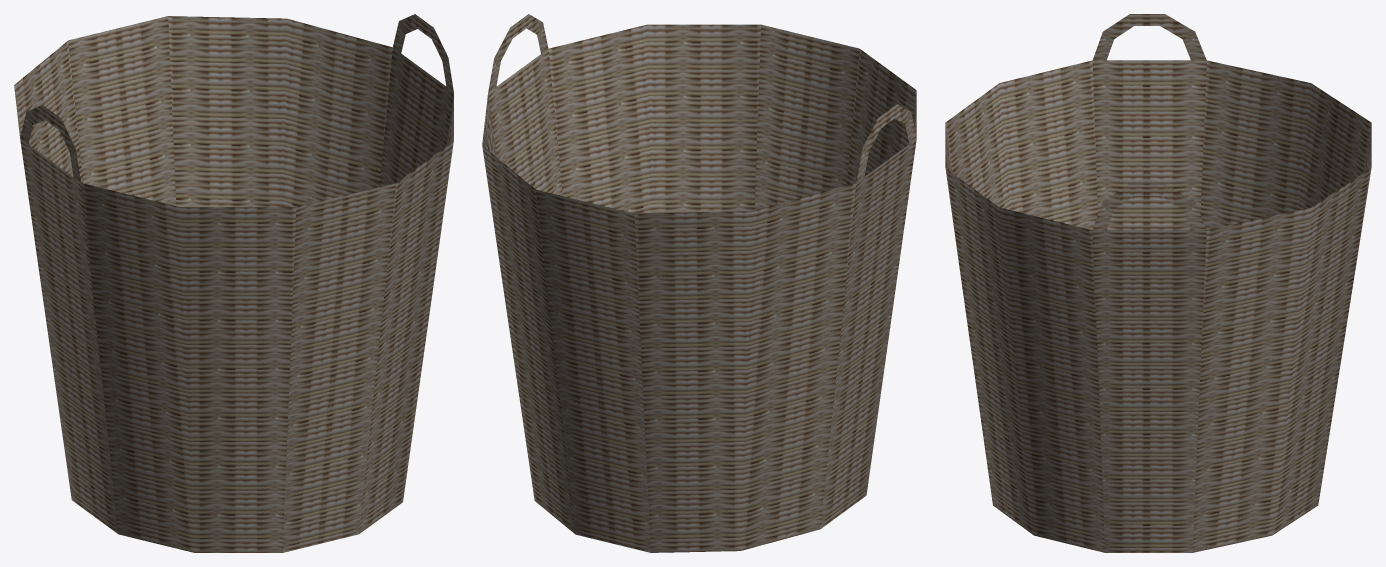
3 renders of one model, left to right at view 1: azimuth 30°, elevation 25°; view 2: azimuth 150°, elevation 25°; view 3: azimuth 270°, elevation 25°, orthographic. The views are drawn at different scales.
Visible parts, largest first — view 1: mesh1_mesh1-geometry, mesh1_mesh1-geometry_1, mesh2_mesh2-geometry_1, mesh2_mesh2-geometry; view 2: mesh2_mesh2-geometry, mesh2_mesh2-geometry_1, mesh1_mesh1-geometry_1, mesh1_mesh1-geometry; view 3: mesh1_mesh1-geometry_1, mesh2_mesh2-geometry_1, mesh2_mesh2-geometry, mesh1_mesh1-geometry.
Part boxes in pixels (x1,y1,x2,y2): mesh1_mesh1-geometry: (52,112,346,552); mesh1_mesh1-geometry_1: (118,14,424,207); mesh2_mesh2-geometry_1: (321,21,453,543); mesh2_mesh2-geometry: (14,28,130,517); mesh2_mesh2-geometry: (585,110,888,552); mesh2_mesh2-geometry_1: (520,14,810,213); mesh1_mesh1-geometry_1: (482,20,613,543); mesh1_mesh1-geometry: (800,36,916,510); mesh1_mesh1-geometry_1: (1146,145,1371,552); mesh2_mesh2-geometry_1: (945,145,1146,552); mesh2_mesh2-geometry: (1146,14,1371,230); mesh1_mesh1-geometry: (945,14,1146,230).
Bounding box in the file's own units: 0.5534 × 0.5913 × 0.5866.
Materials: 1 (1 with a texture image).
